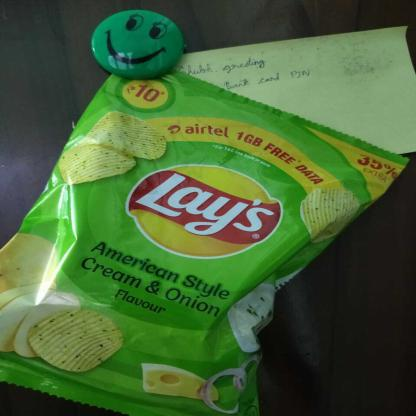cream_and_onion: (2, 69, 408, 412)
